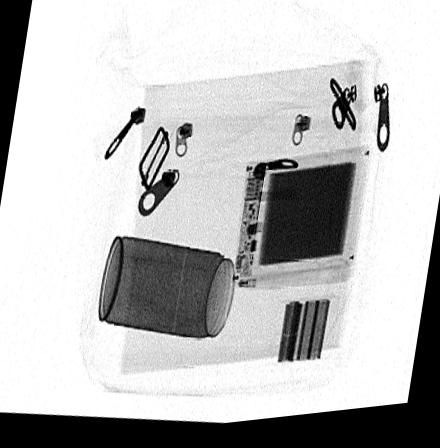Powerbank: (229, 156, 373, 286)
